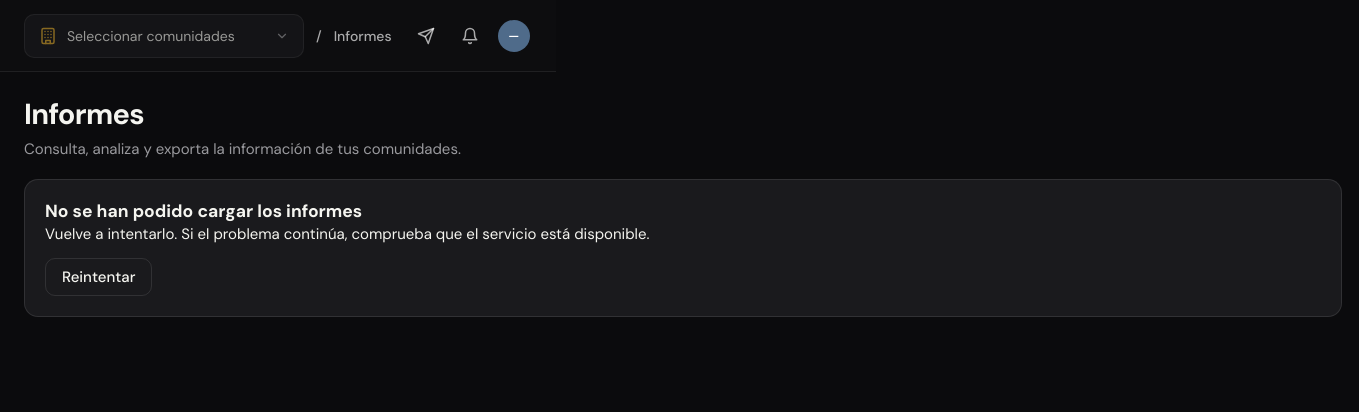
Test: ReportsCatalogComponent › presenta el fallo 500 como carga del catálogo y permite reintentar hasta recuperar las cards
Step 1. Click the button "Reintentar" → point(99, 277), box 45,258 -> 152,296
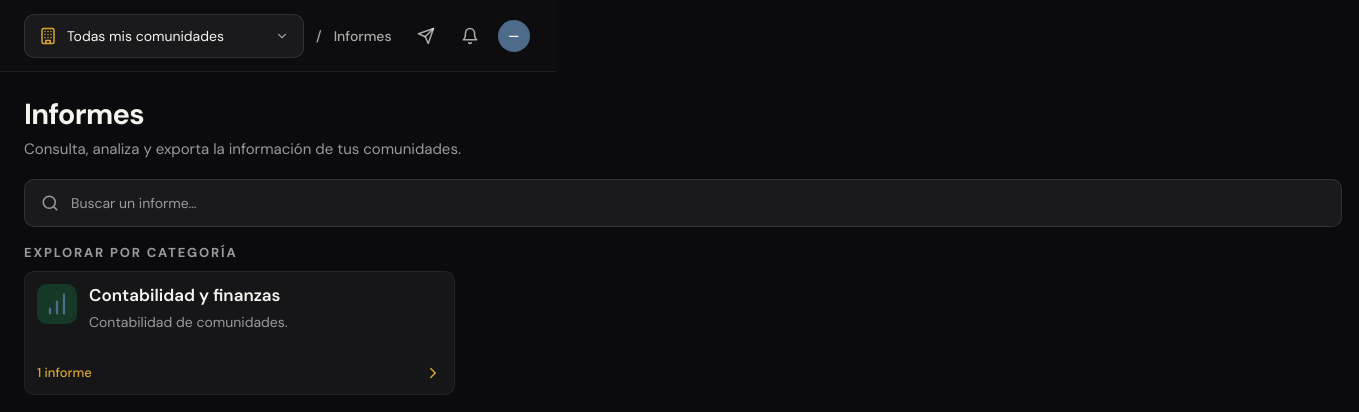
Check: the message is gone
Check: the number of links with class "report-card" is 1, box 24,270 -> 455,394
